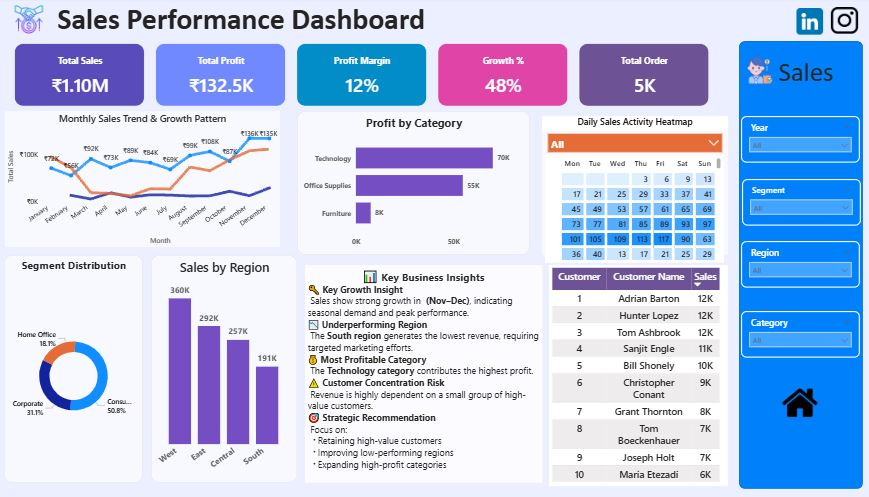

What the dashboard file says about the page in this screenshot:
{"tool":"powerbi","page":{"name":"Sales_Analysis","canvas":[1570,900],"ordinal":0},"visuals":[{"type":"textbox","box":[75.6,1.8,723.6,79.2],"z":0},{"type":"image","box":[12.6,14.4,86.4,52.2],"z":1000},{"type":"shape","box":[1333.8,79.2,223.2,806.4],"z":2000},{"type":"cardVisual","fields":{"Data":["order.Total Sales","order.Total Profit","order.Profit Margin","customer_dataset.YoY Growth %","order.Total Order"]},"box":[12.6,66.6,1285.2,147.6],"z":3000},{"type":"slicer","fields":{"Values":["Calendar_table.Date.Variation.Date Hierarchy.Year"]},"box":[1337.2,214.3,214.3,84.5],"z":4000,"group":"g1"},{"type":"donutChart","title":"Segment Distribution","fields":{"Category":["customer_dataset.Segment"],"Y":["order.Total Sales"]},"box":[10.8,464.4,250.2,410.4],"z":4000},{"type":"slicer","fields":{"Values":["customer_dataset.Region"]},"box":[1337.2,438.9,214.3,84.5],"z":5000,"group":"g1"},{"type":"clusteredColumnChart","title":"Sales by Region","fields":{"Category":["customer_dataset.Region"],"Y":["Sum(order.Sales)"]},"box":[275.4,464.4,262.8,410.4],"z":5000},{"type":"barChart","title":"Profit by Category","fields":{"Category":["product_dataset.Category"],"Y":["Sum(order.Profit)"]},"box":[538.2,205.2,419.4,259.2],"z":6000},{"type":"slicer","fields":{"Values":["customer_dataset.Segment"]},"box":[1339.3,327.6,214.3,84.5],"z":6000,"group":"g1"},{"type":"slicer","title":"Daily Sales Activity Heatmap","fields":{"Values":["Calendar_table.Date.Variation.Date Hierarchy.Month"]},"box":[979.2,214.2,334.8,250.2],"z":7000},{"type":"slicer","fields":{"Values":["product_dataset.Category"]},"box":[1337.2,564.6,214.3,84.5],"z":7000,"group":"g1"},{"type":"image","box":[1346.4,100.8,48.6,63],"z":8000},{"type":"textbox","box":[1342.8,100.8,223.2,75.6],"z":9000},{"type":"pivotTable","fields":{"Rows":["Calendar_table.Week number"],"Columns":["Calendar_table.Day Name"],"Values":["Sum(Calendar_table.Day Number)"]},"box":[984.6,284.4,322.2,194.4],"z":10000},{"type":"image","box":[1429.3,19.8,63.8,48.4],"z":11000},{"type":"image","box":[1493,17.6,63,48.4],"z":12000},{"type":"lineChart","title":"Monthly Sales Trend & Growth Pattern","fields":{"Category":["Calendar_table.Date.Variation.Date Hierarchy.Month"],"Y":["order.Total Sales","Calendar_table.Previous Month Sales"],"Y2":["Calendar_table.Moving Avg (3 Month)"]},"box":[12.6,205.2,495,244.8],"z":13000},{"type":"tableEx","fields":{"Values":["customer_dataset.Customer Rank","customer_dataset.Customer Name","customer_dataset.Top N sales"]},"box":[991.8,482.4,322.2,397.8],"z":14000},{"type":"textbox","box":[552.6,482.4,426.6,392.4],"z":15000},{"type":"image","box":[1400.7,699.2,85.8,63.8],"z":16000},{"type":"group","id":"g1","title":"Group 1","box":[1337.2,214.3,216.3,434.7],"z":17000}]}

Visuals, with their boxes in screenshot pixels (x1, y1, x2, y2), scaled from the page's 1570x900 canvas onto the 869x497 screenshot:
textbox: (42,1,442,45)
image: (7,8,55,37)
shape: (738,44,862,489)
cardVisual - order.Total Sales x order.Total Profit: (7,37,718,118)
slicer - Calendar_table.Date.Variation.Date Hierarchy.Year: (740,118,859,165)
"Segment Distribution" donutChart: (6,256,144,483)
slicer - customer_dataset.Region: (740,242,859,289)
"Sales by Region" clusteredColumnChart: (152,256,298,483)
"Profit by Category" barChart: (298,113,530,256)
slicer - customer_dataset.Segment: (741,181,860,228)
"Daily Sales Activity Heatmap" slicer: (542,118,727,256)
slicer - product_dataset.Category: (740,312,859,358)
image: (745,56,772,90)
textbox: (743,56,867,97)
pivotTable - Calendar_table.Week number x Calendar_table.Day Name: (545,157,723,264)
image: (791,11,826,38)
image: (826,10,861,36)
"Monthly Sales Trend & Growth Pattern" lineChart: (7,113,281,248)
tableEx - customer_dataset.Customer Rank x customer_dataset.Customer Name: (549,266,727,486)
textbox: (306,266,542,483)
image: (775,386,823,421)
"Group 1" group: (740,118,860,358)
